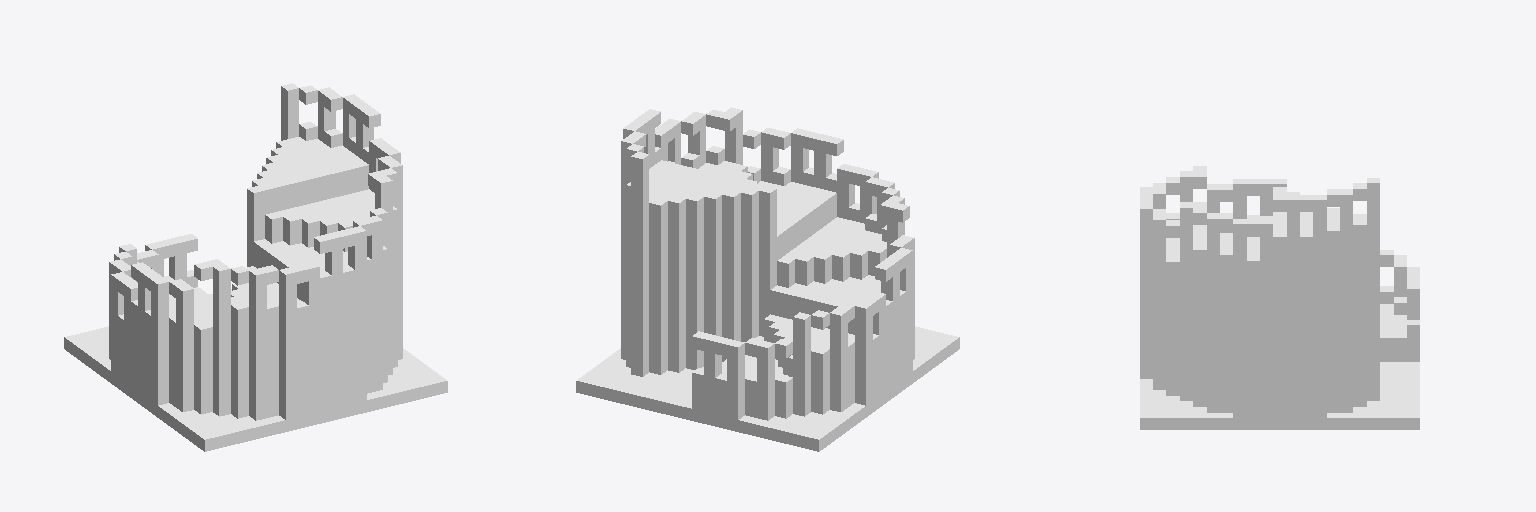
File: StairsUp.obj
The picture shows the model from 3 angles: view 1: azimuth 30°, elevation 25°; view 2: azimuth 150°, elevation 25°; view 3: azimuth 270°, elevation 25°; orthographic projection.
Parts seen in each view (by area): view 1: object 1; view 2: object 1; view 3: object 1.
Boxes of the visible parts, box(x1,y1,x2,y2) form: object 1: box(64, 83, 447, 451); object 1: box(576, 107, 959, 451); object 1: box(1140, 166, 1419, 429).
Bounding box in the file's own units: 2.1 × 1.9 × 2.1.